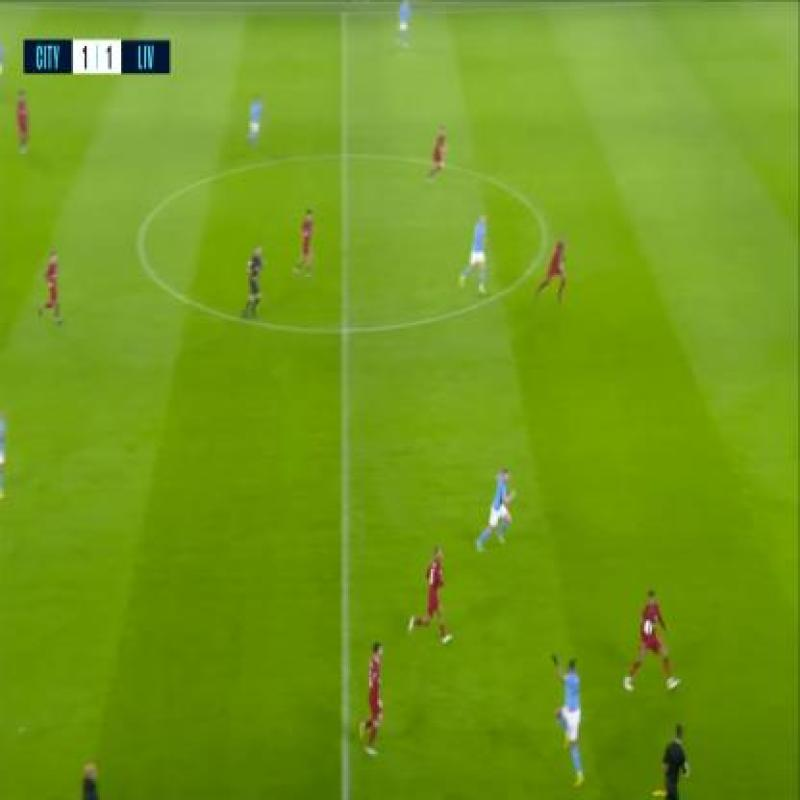13: (330, 0, 362, 29)
14: (330, 134, 362, 182)
15: (317, 302, 371, 358)
c: (120, 215, 161, 260), (524, 218, 569, 253)
